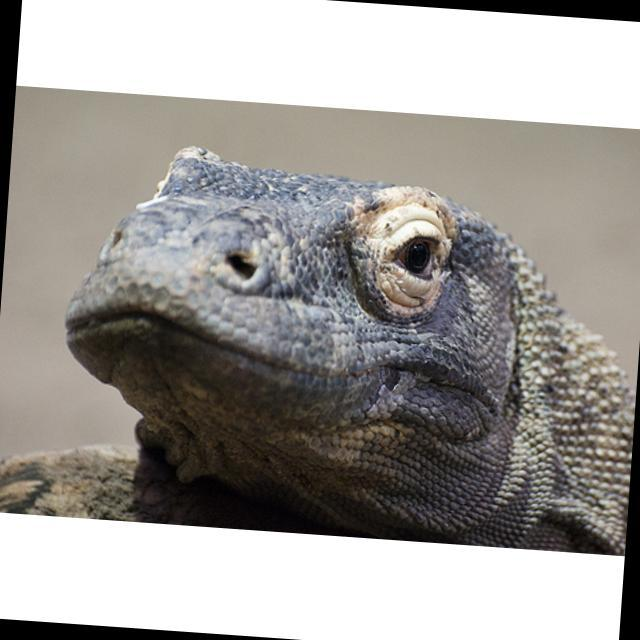KomodoDragon: (37, 114, 640, 552)
